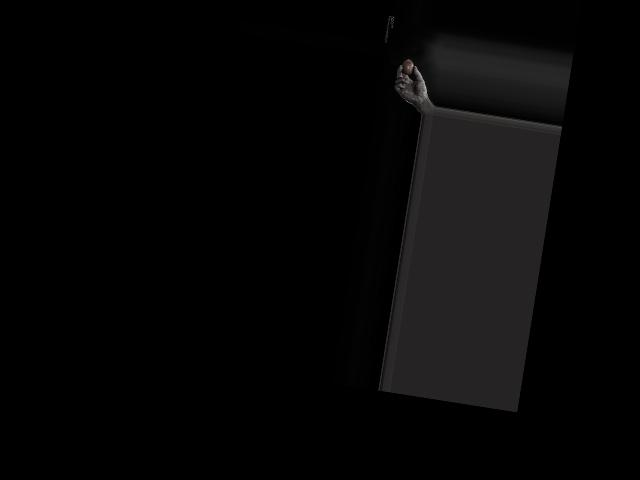egg: (401, 59, 414, 76)
